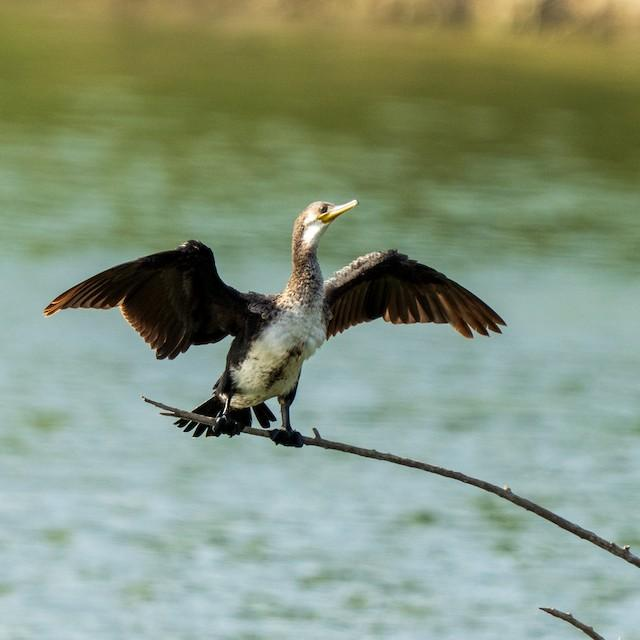cormorant: (52, 199, 506, 441)
